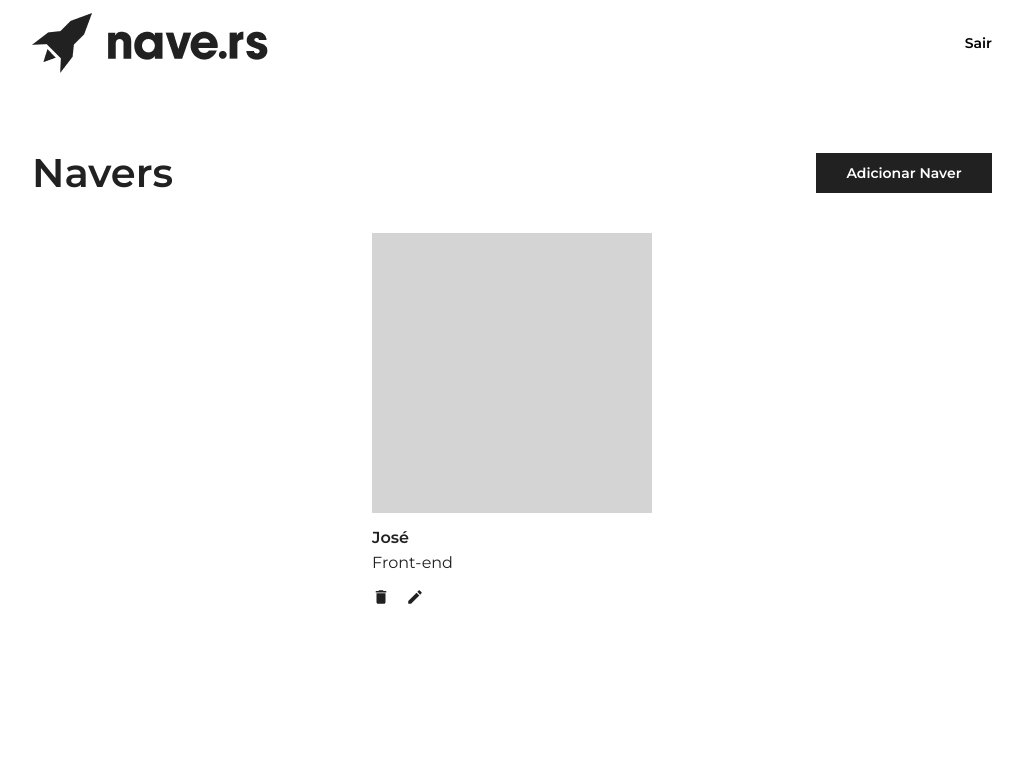
Test: Home page › should be able to display modal delete
Expected: the heading "José" is shown, [372,528,409,547]
Expected: the text "Front-end" is shown, [372,553,453,572]
Click the button with test id "remove-naver-1".
click(381, 597)  # box [372,588,390,606]
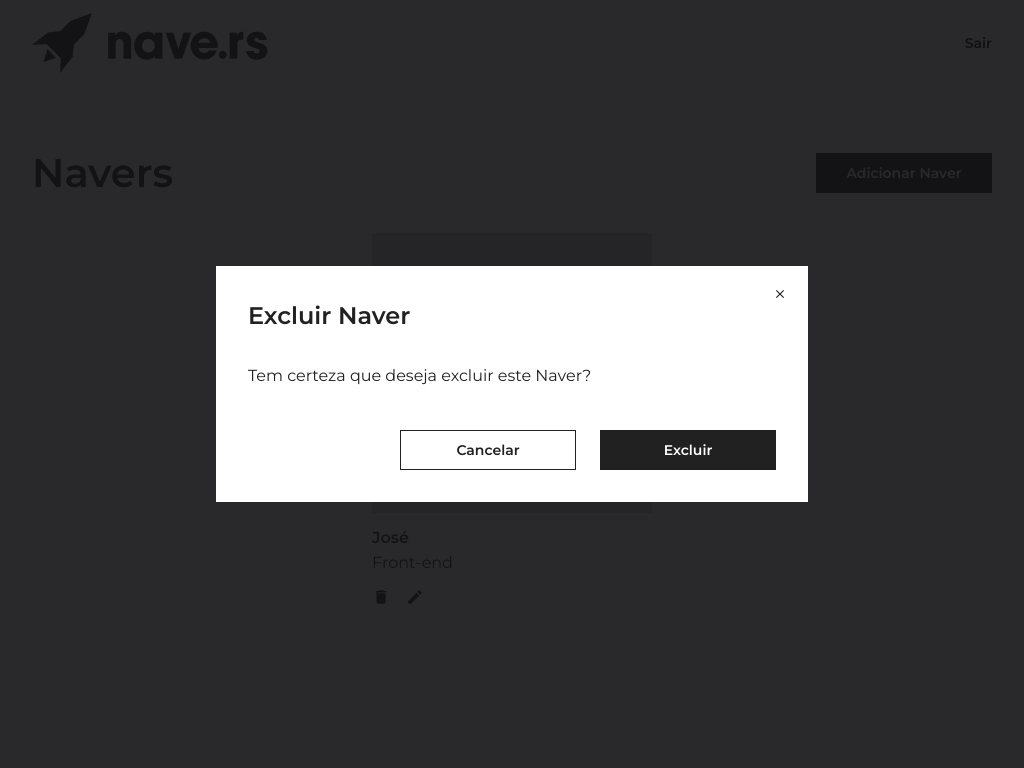
Now the text "Tem certeza que deseja excluir este Naver?" is shown, box [248,366,591,385]
